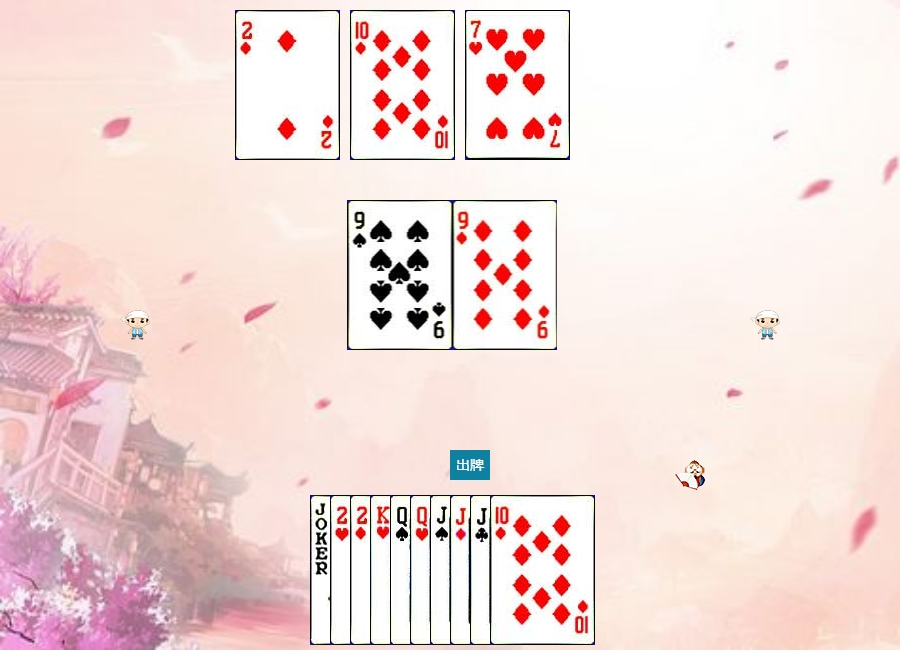10~1: (350, 10, 455, 160), (490, 495, 595, 645)
11~1: (450, 495, 555, 645)
11~2: (470, 495, 575, 645)
11~4: (430, 495, 535, 645)
12~3: (410, 495, 515, 645)
12~4: (390, 495, 495, 645)
13~3: (370, 495, 475, 645)
15~1: (235, 10, 340, 160), (350, 495, 455, 645)
15~3: (330, 495, 435, 645)
17~3: (310, 495, 415, 645)
7~3: (465, 10, 570, 160)
9~1: (453, 200, 558, 350)
9~4: (348, 200, 453, 350)
